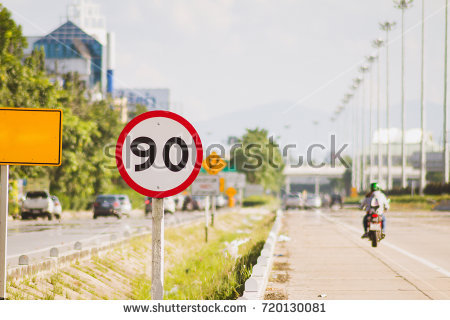Speed_limit_90km: (114, 110, 205, 200)
